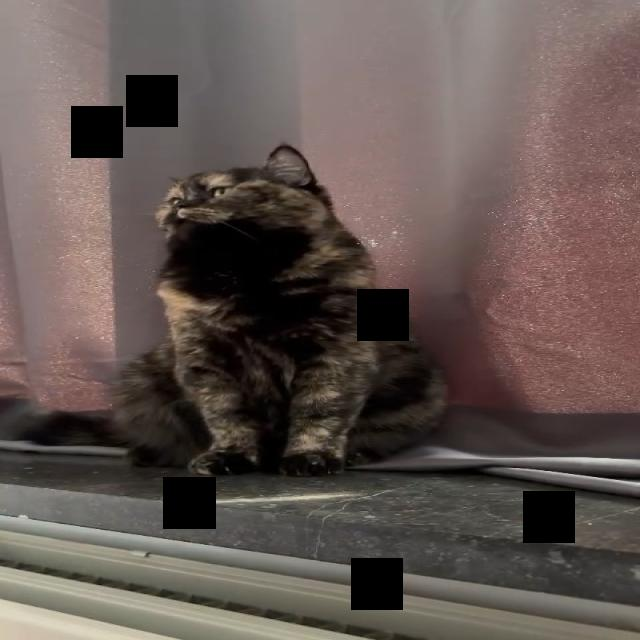authorized: (106, 143, 450, 477)
